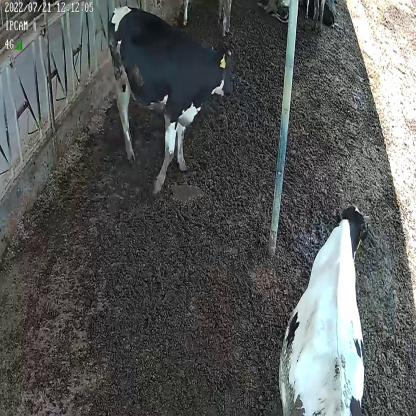cow: (108, 6, 234, 200), (276, 203, 367, 416)
